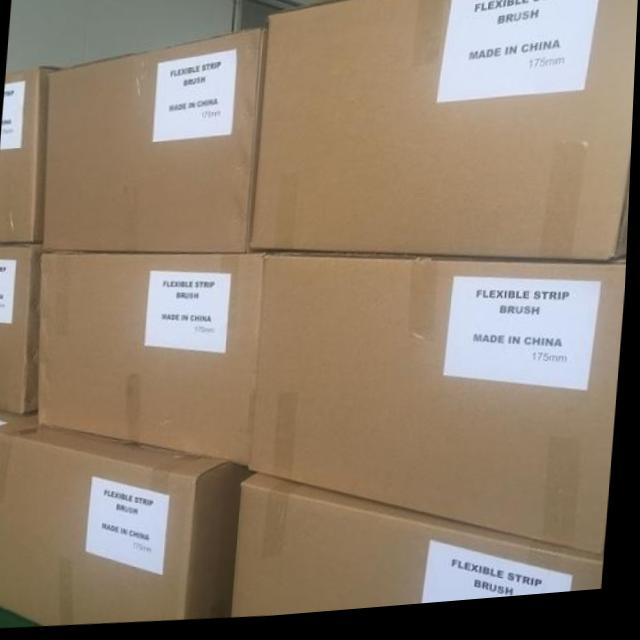box: (254, 258, 629, 568), (252, 0, 639, 273), (237, 478, 609, 621), (0, 414, 248, 627), (38, 251, 268, 478), (44, 33, 267, 255), (0, 65, 60, 245), (0, 245, 42, 414), (0, 408, 29, 427)
